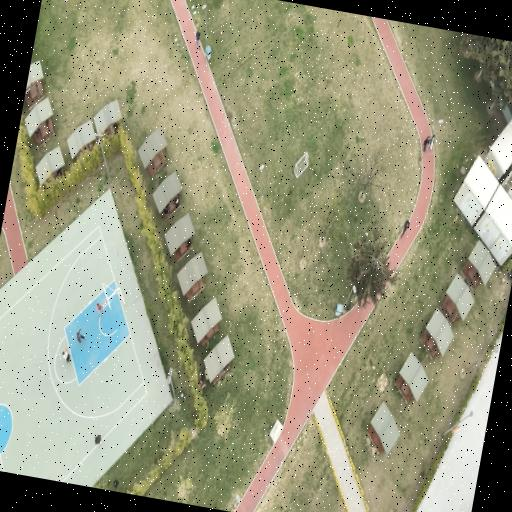person: (422, 136, 430, 152), (400, 220, 408, 236), (76, 329, 84, 344), (198, 372, 205, 389), (428, 134, 434, 149), (61, 350, 69, 361), (195, 32, 200, 48), (95, 303, 101, 316), (94, 435, 100, 445), (174, 196, 179, 206), (112, 480, 117, 487)
